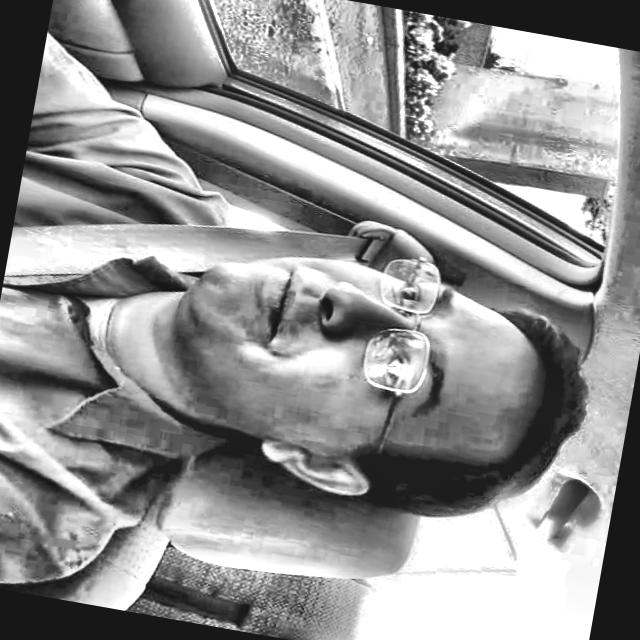closed_mouth: (244, 253, 312, 363)
open_eyes: (364, 326, 432, 396), (381, 263, 442, 317)
